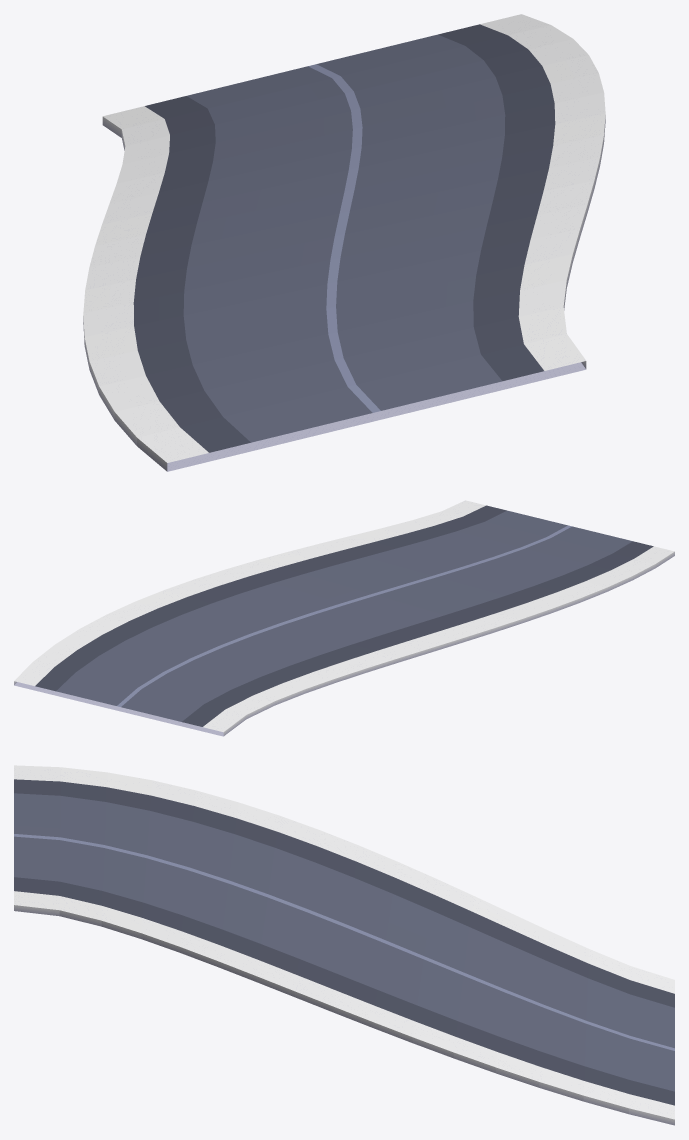
The model's file is road-Chicane-Flat-BiSlopeDown-Down1-Right1-Size2.glb.
3 views of the same model, one above another, from view 1: azimuth 30°, elevation 25°; view 2: azimuth 150°, elevation 25°; view 3: azimuth 270°, elevation 25° (orthographic). The views are drawn at different scales.
Parts seen in each view (by area): view 1: road-Chicane-Flat-BiSlopeDown-Down1-Right1-Size2; view 2: road-Chicane-Flat-BiSlopeDown-Down1-Right1-Size2; view 3: road-Chicane-Flat-BiSlopeDown-Down1-Right1-Size2.
Boxes of the visible parts, <box> form: road-Chicane-Flat-BiSlopeDown-Down1-Right1-Size2: <box>83,14,605,471</box>; road-Chicane-Flat-BiSlopeDown-Down1-Right1-Size2: <box>14,500,674,736</box>; road-Chicane-Flat-BiSlopeDown-Down1-Right1-Size2: <box>14,765,674,1125</box>.
Size of the model in its own units: 2 by 0.27 by 2.
Materials: 1 (1 with a texture image).
